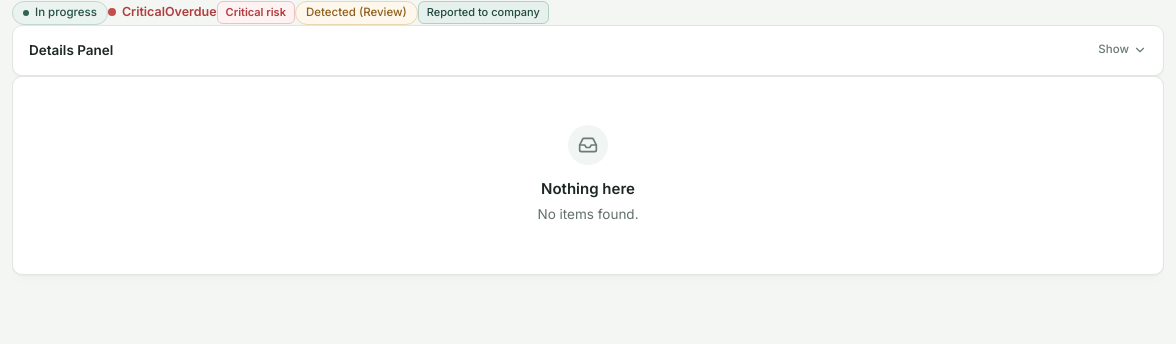
it: QRYVANTA Frontend Core UI & Workflows › renders semantic status, priority, SLA, risk, incident badges and collapsible panels accurately
Expected: the text "In progress" is shown, [12,1,108,25]
Expected: the text "Critical" is shown, [108,2,165,22]
Click the text "Details Panel" at (71, 50), box [29,40,113,61]
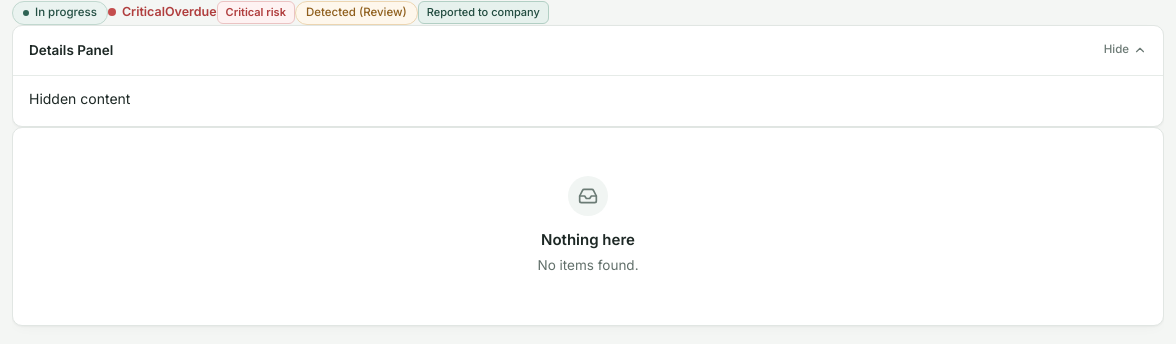
Now the text "Hidden content" is shown, box [29,90,130,107]
